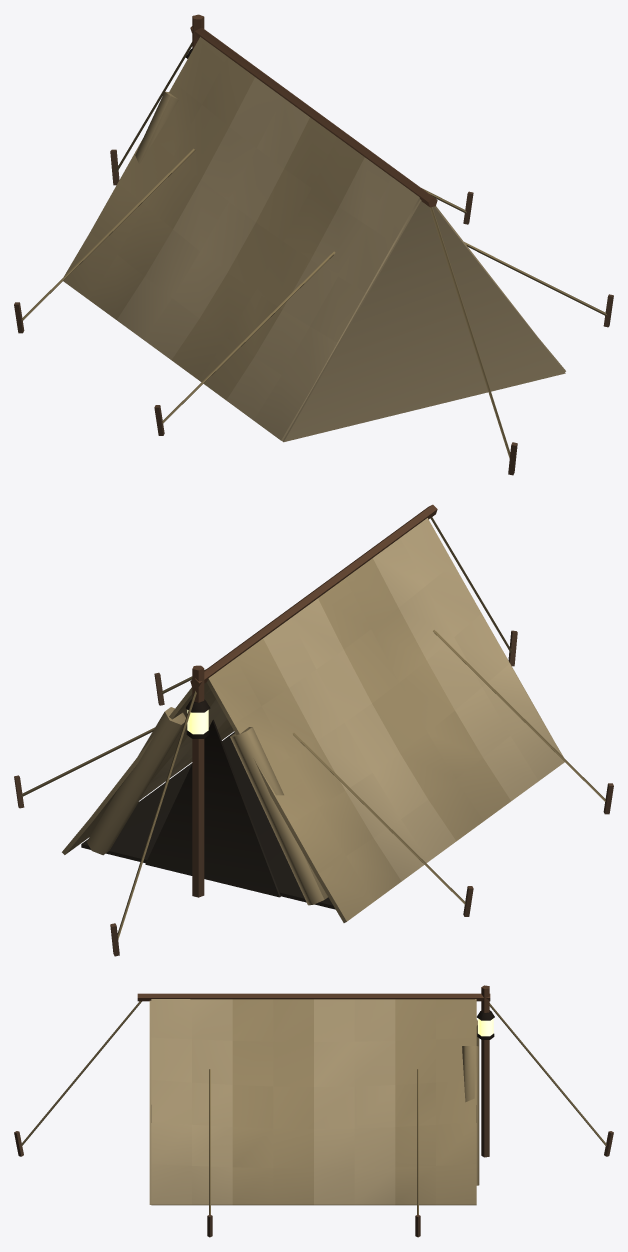
File: tent.glb
The picture shows the model from 3 angles, top to bottom: view 1: azimuth 30°, elevation 25°; view 2: azimuth 150°, elevation 25°; view 3: azimuth 270°, elevation 25°; orthographic projection. The views are drawn at different scales.
Parts seen in each view (by area): view 1: tent; view 2: tent; view 3: tent.
Boxes of the visible parts, x1,y1,x2,y2 form: tent: (14,14,613,475); tent: (14,504,613,956); tent: (14,985,613,1237).
Size of the model in its own units: 4.24 by 2.01 by 6.46.
